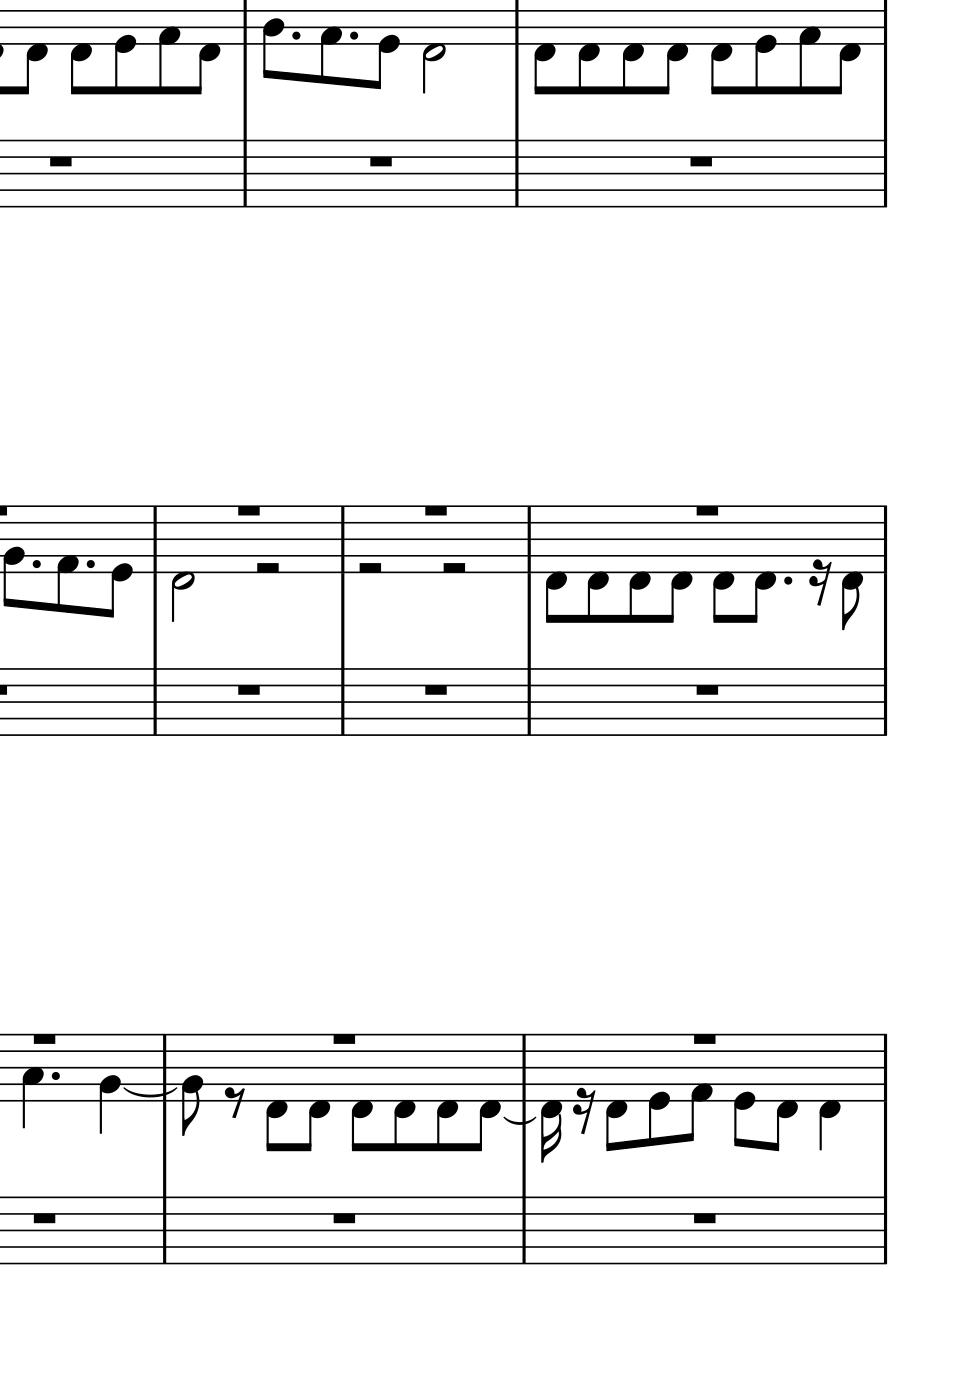16_-1: (537, 1030, 565, 1165), (435, 1030, 459, 1155)
2_-1: (168, 503, 194, 621)
4_2: (97, 1032, 121, 1135)
8_-1: (748, 504, 777, 622), (472, 1032, 500, 1154), (838, 503, 863, 630), (543, 503, 568, 626), (603, 1028, 628, 1156), (263, 1032, 288, 1154), (772, 1032, 798, 1154), (304, 1033, 330, 1153), (666, 505, 692, 622), (392, 1029, 416, 1156), (584, 504, 609, 624), (627, 504, 651, 624), (817, 1029, 840, 1154), (350, 1035, 373, 1154), (712, 507, 735, 625)
8_0: (104, 503, 132, 620), (647, 1033, 671, 1147), (733, 1032, 756, 1150)
8_1: (55, 504, 78, 616)
8_2: (2, 505, 25, 609), (179, 1033, 203, 1137)
Rests1: (43, 151, 76, 170), (685, 152, 716, 170), (692, 501, 722, 519), (233, 680, 264, 698), (420, 680, 451, 698), (692, 680, 722, 698), (689, 1030, 720, 1048), (29, 1208, 59, 1226), (328, 1209, 358, 1227), (689, 1209, 720, 1227), (233, 501, 263, 519), (420, 501, 450, 519), (31, 1029, 60, 1047), (329, 1030, 358, 1048), (365, 152, 396, 169)
Rests16: (807, 557, 833, 607), (572, 1085, 595, 1135)
Rests2: (354, 557, 386, 578), (252, 558, 284, 577), (439, 558, 469, 577)
Rests8: (222, 1084, 247, 1119)
Single_barline: (333, 506, 352, 571), (155, 1196, 173, 1264), (520, 506, 538, 573), (876, 1034, 893, 1102), (515, 1196, 532, 1264), (876, 1197, 893, 1265), (155, 1033, 173, 1096), (508, 140, 525, 207), (876, 140, 893, 207), (146, 507, 163, 573), (334, 669, 351, 735), (520, 669, 537, 735), (876, 669, 893, 735), (877, 505, 893, 573), (237, 140, 252, 207), (146, 669, 162, 735), (508, 1, 525, 45), (876, 1, 893, 45), (237, 1, 252, 43)
Slur: (119, 1087, 179, 1098), (502, 1116, 537, 1126)
dot: (781, 573, 795, 587), (47, 1070, 63, 1083), (288, 28, 302, 41), (346, 29, 360, 42), (83, 557, 97, 571), (30, 557, 42, 571)
